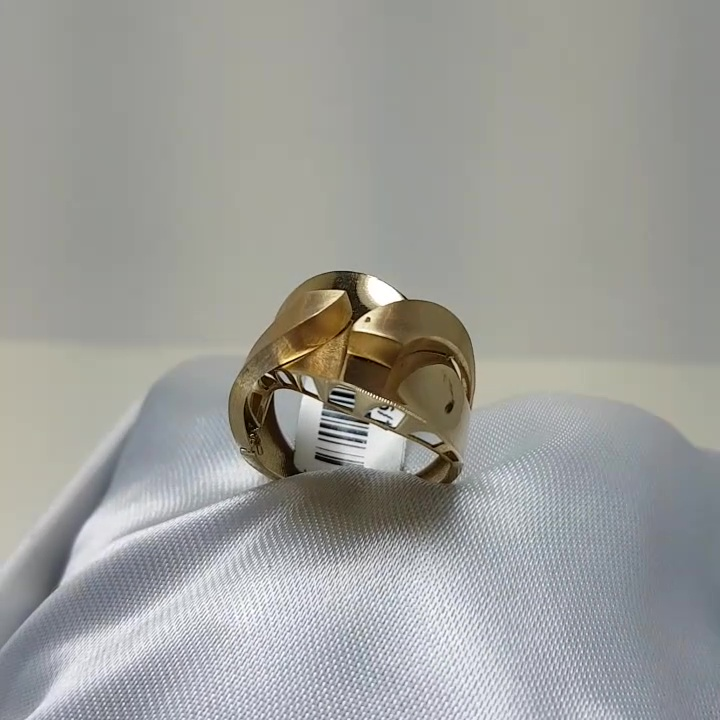Ring 4: (218, 264, 487, 499)
